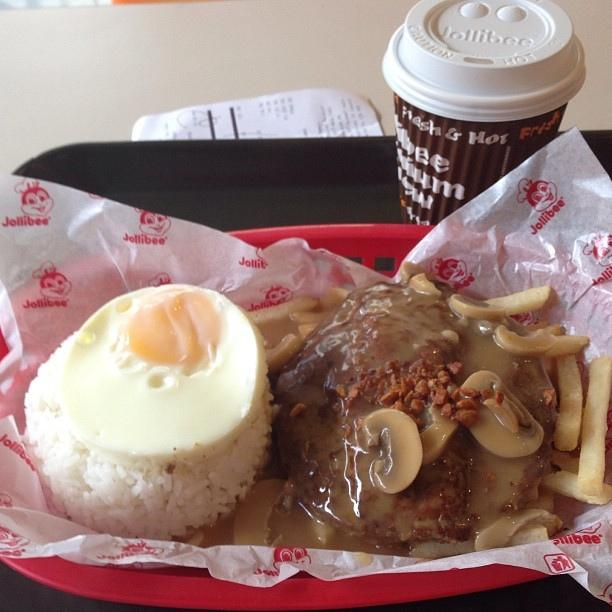mushroom: (460, 371, 544, 458), (361, 407, 424, 495), (474, 507, 564, 552), (449, 284, 552, 320), (234, 479, 288, 546), (420, 401, 462, 467), (496, 324, 557, 356), (408, 272, 442, 299), (312, 516, 339, 546)
